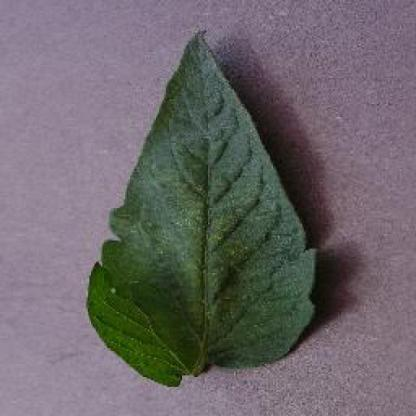Tomato_Spider_Mites: (87, 31, 314, 378)
